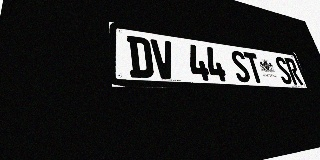4: (186, 44, 211, 81), (203, 46, 227, 82)
D: (127, 35, 154, 78)
R: (284, 58, 303, 85)
S: (229, 50, 252, 83), (273, 56, 294, 84)
T: (243, 52, 265, 83)
V: (150, 39, 177, 79)
